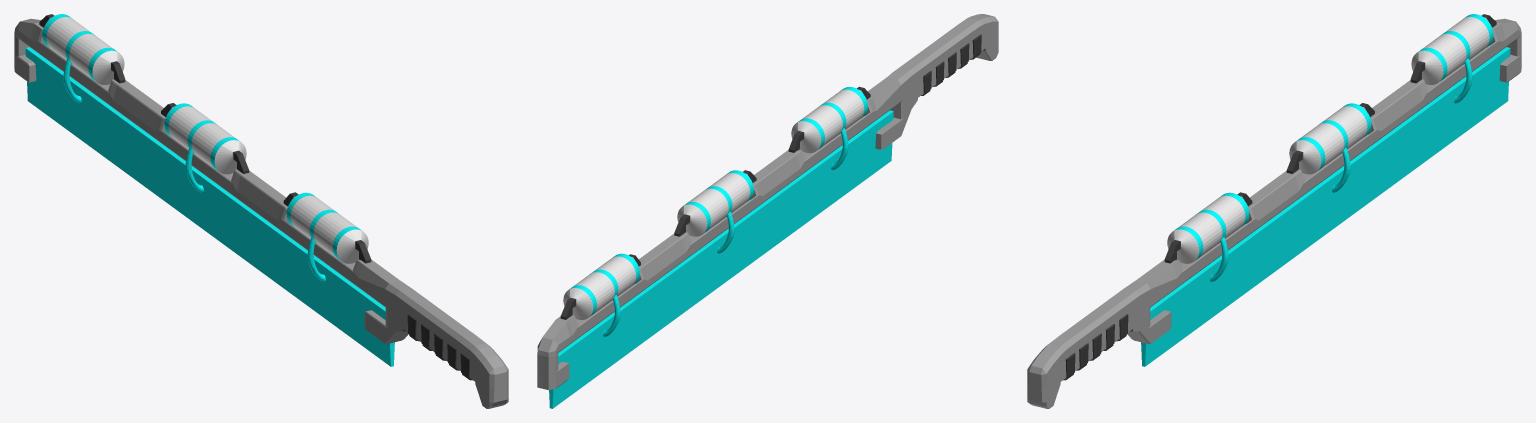
File: Sword.fbx
The picture shows the model from 3 angles, left to right: view 1: azimuth 30°, elevation 25°; view 2: azimuth 150°, elevation 25°; view 3: azimuth 330°, elevation 25°; orthographic projection. The views are drawn at different scales.
Parts seen in each view (by area): view 1: Cube; view 2: Cube; view 3: Cube.
Boxes of the visible parts, x1,y1,x2,y2 form: Cube: (14,14,508,408); Cube: (537,14,998,408); Cube: (1027,14,1521,408).
Bounding box in the file's own units: 7.89 × 20.66 × 167.
